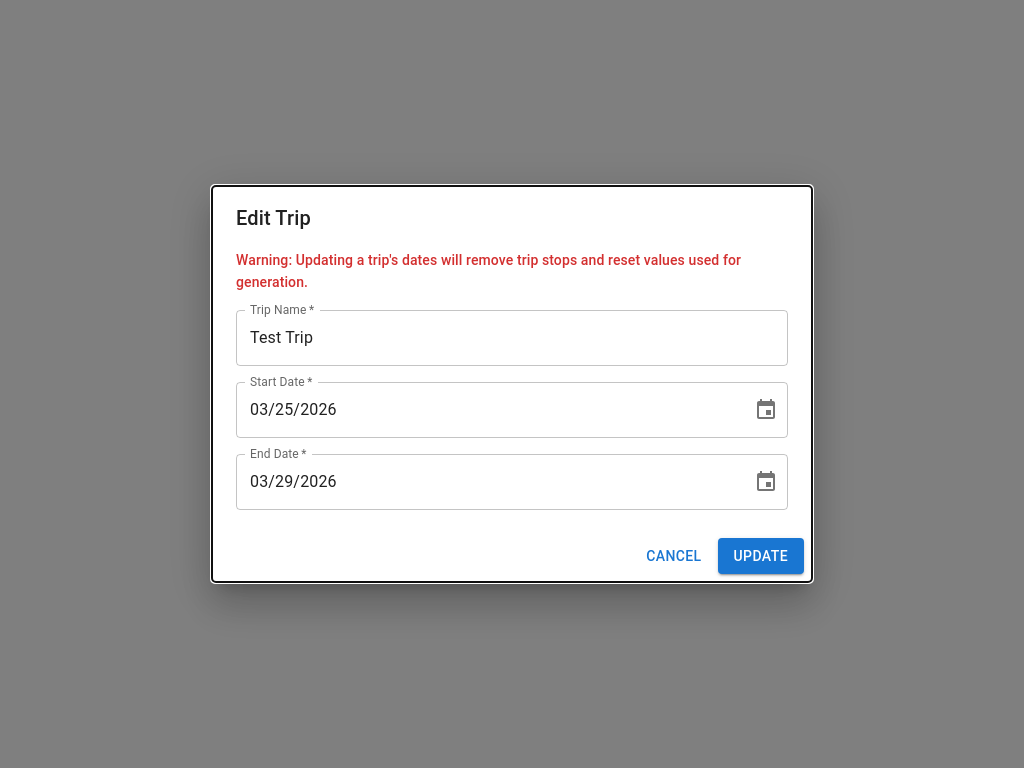
UpdateTripForm Frontend Unit Tests › FUT27 - Update Trip Form shows Error
The image size is (1024, 768).
Clear the field labelled "Trip Name *". click: (512, 338)
box: [236,310,788,366]
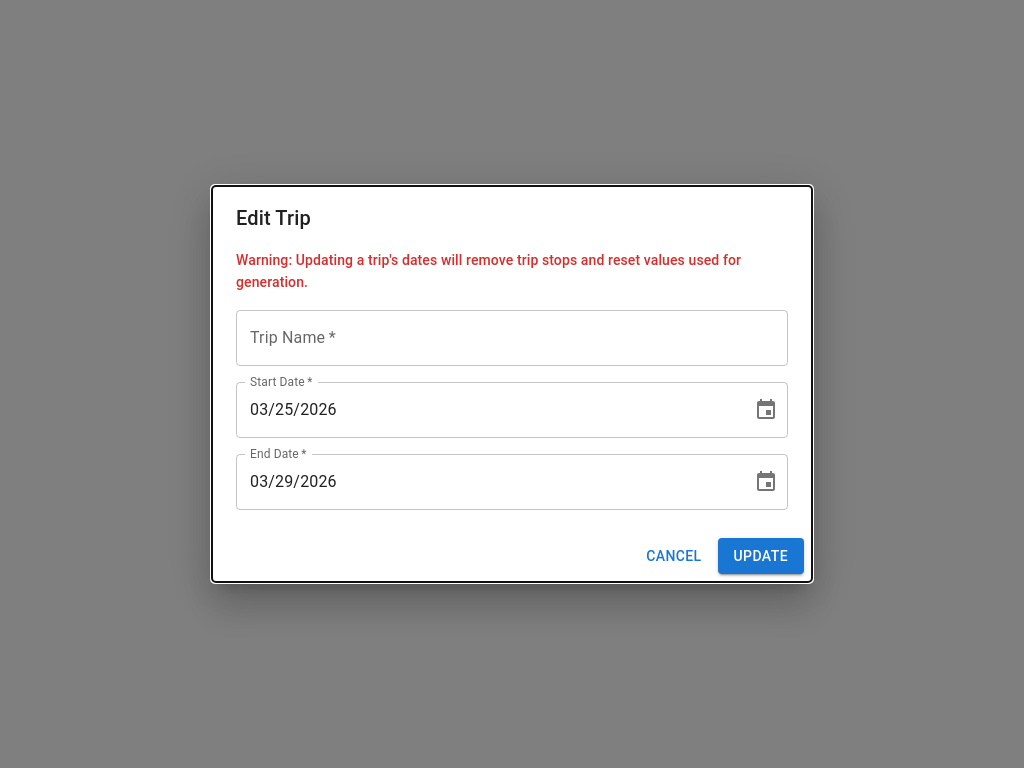
Click the button "Update". click: (761, 556)
box: [718,538,804,574]
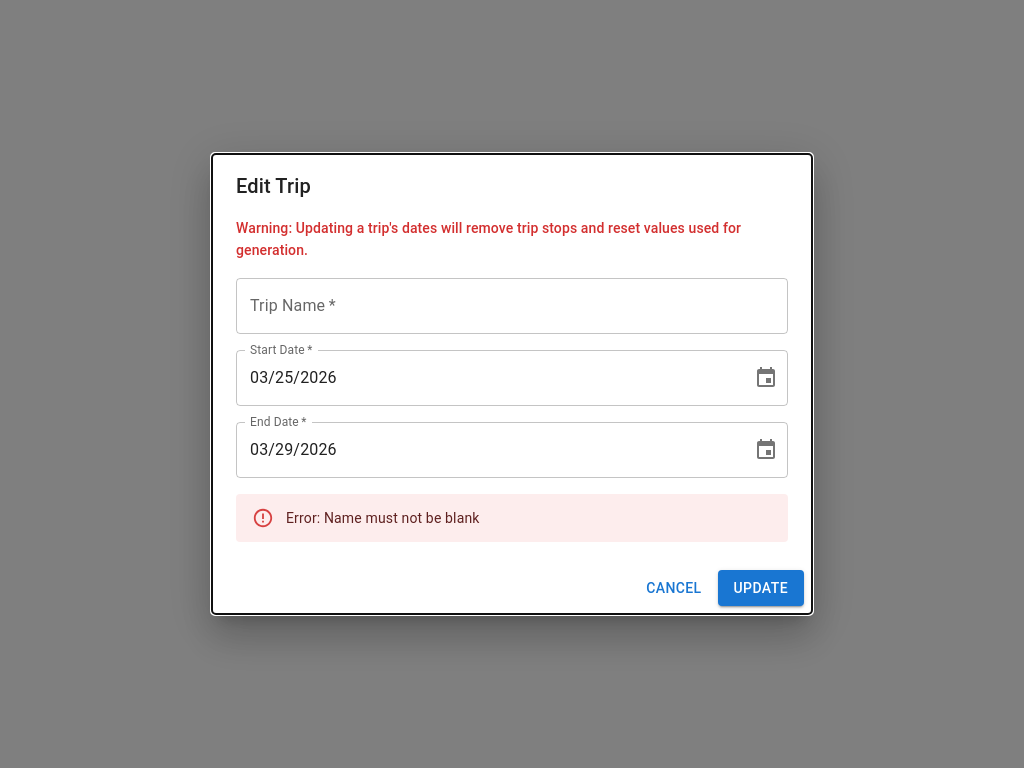
Expected: the text "Error: Name must not be blank" is shown, [286,510,480,526]
